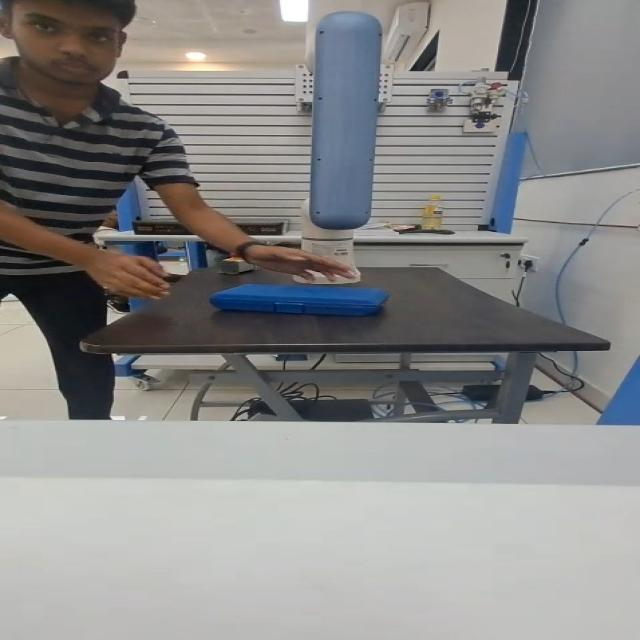top-surface: (225, 285, 376, 299)
